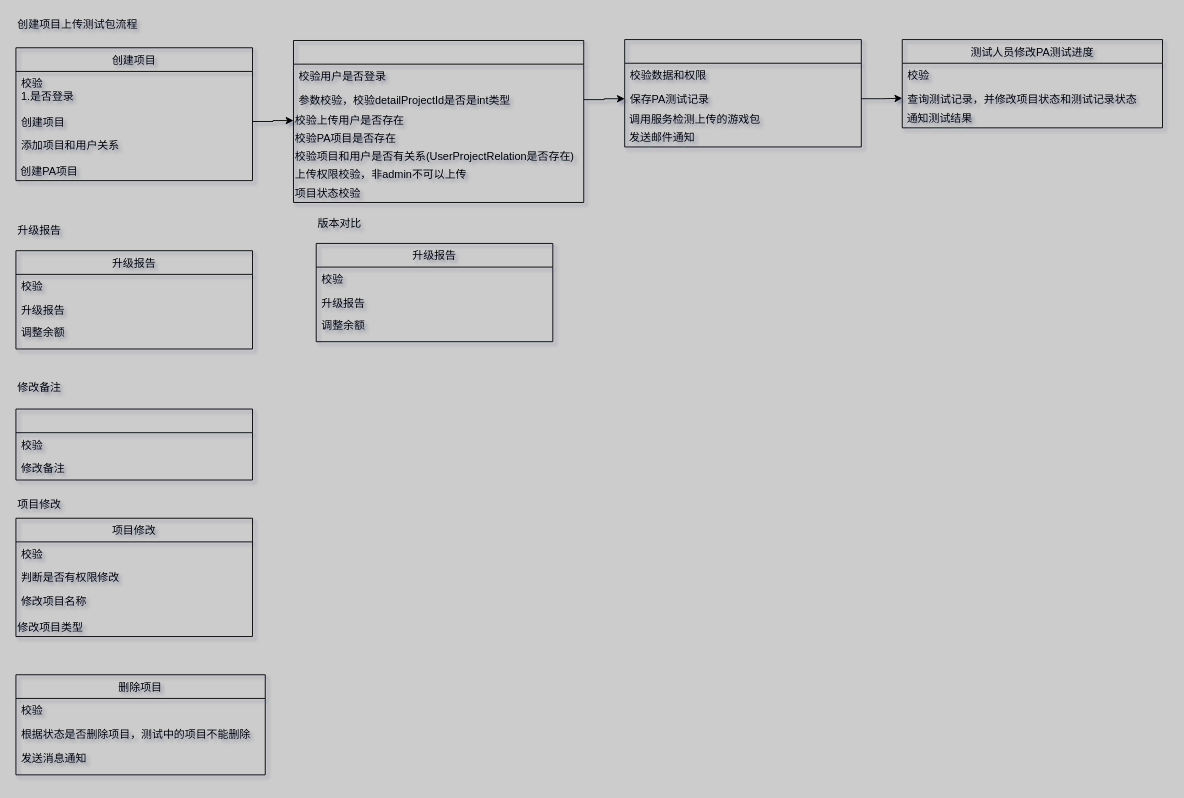
Some shapes in this 1184 by 798 pixel diagram are drawn without their labels. Here are the shapes that lost their labels. From the top down, the box of each, then its label:
(624, 39, 861, 147): 上传测试包
(293, 40, 584, 202): 是否可上传测试包
(15, 408, 253, 480): 修改测试备注
